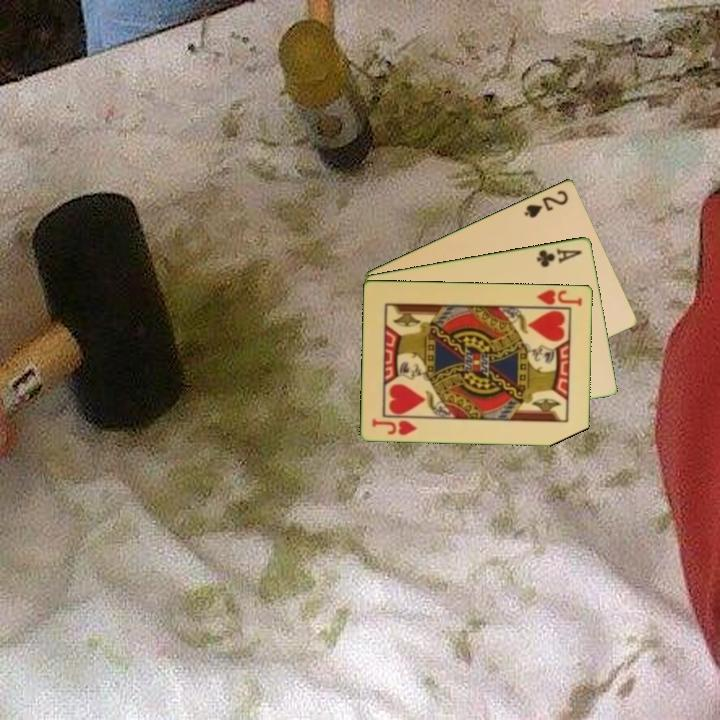2s: (520, 186, 571, 221)
Ac: (533, 245, 585, 270)
Jh: (530, 286, 585, 311), (369, 415, 419, 438)
